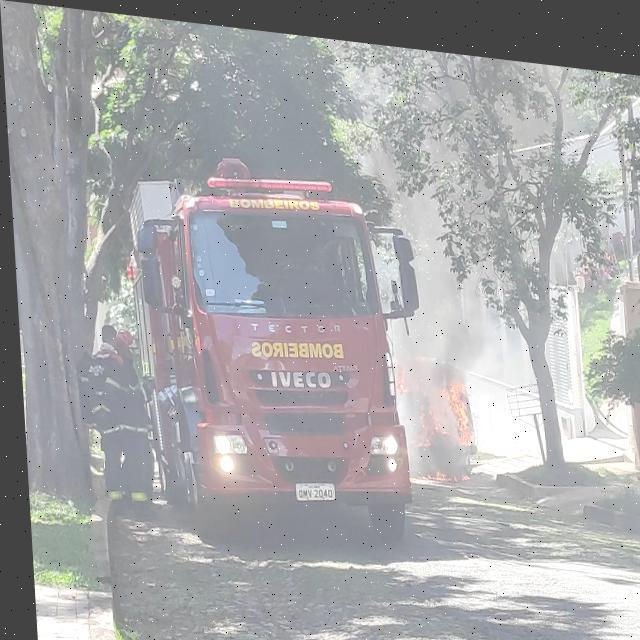Fire: (436, 364, 469, 434), (402, 394, 436, 448), (413, 457, 451, 473), (390, 353, 401, 390), (456, 462, 466, 472)
